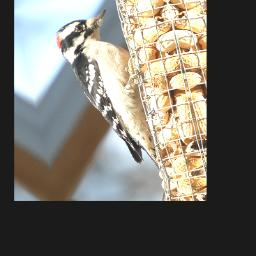Woodpecker: (50, 6, 164, 181)
